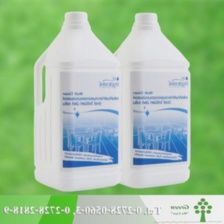cleaning_solution: (31, 7, 126, 194), (106, 9, 194, 192)
